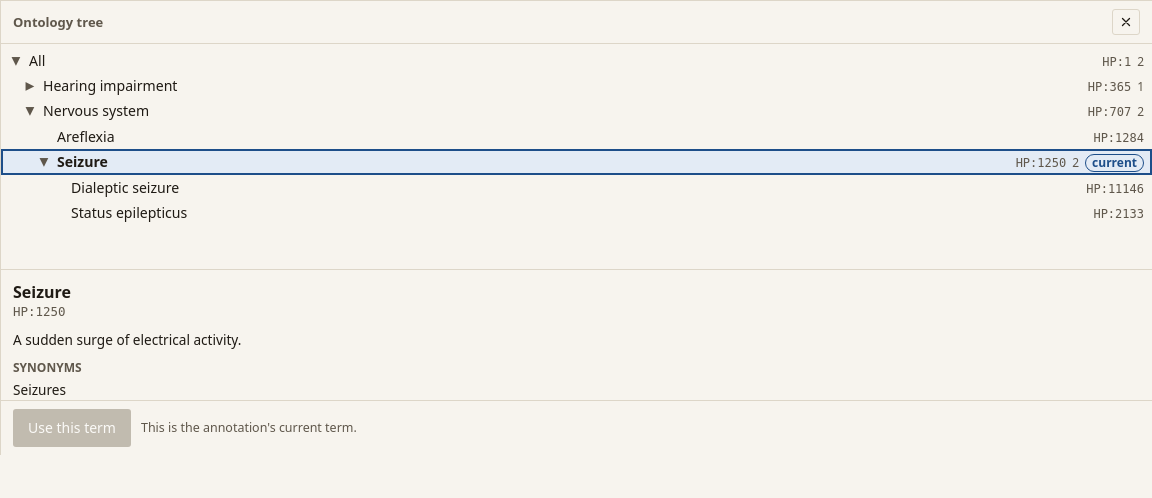
Test case: TreeBrowser: one walk › loads the children of a branch when it is opened, once
Click the text with class "tree-toggle" showing "▸" at (30, 84), box [26, 72, 34, 96]
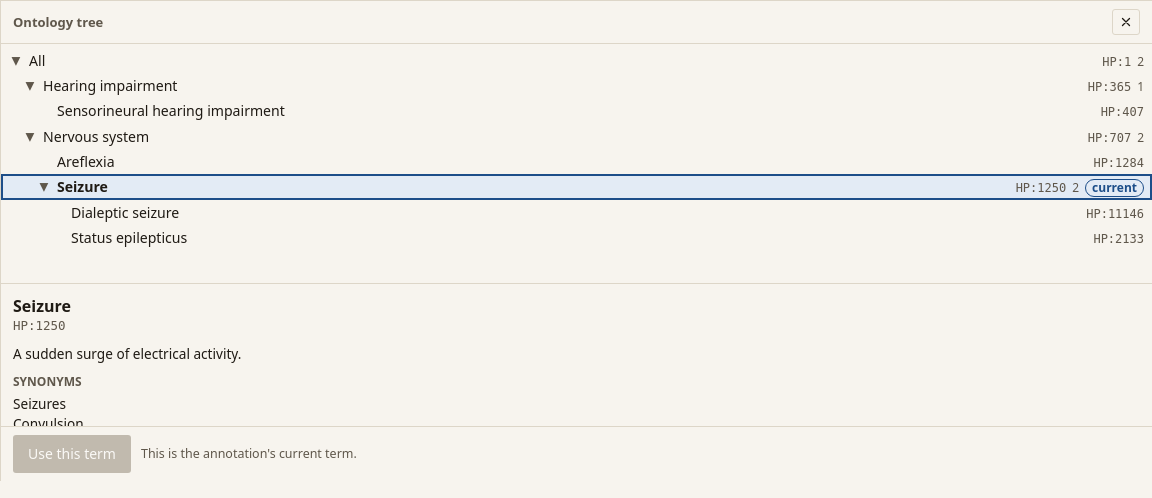
Expected: the list item "Hearing impairment" is expanded, [1, 73, 1151, 98]
Click the text with class "tree-toggle" in the row of "HP:365" at (30, 84), box [26, 72, 34, 96]
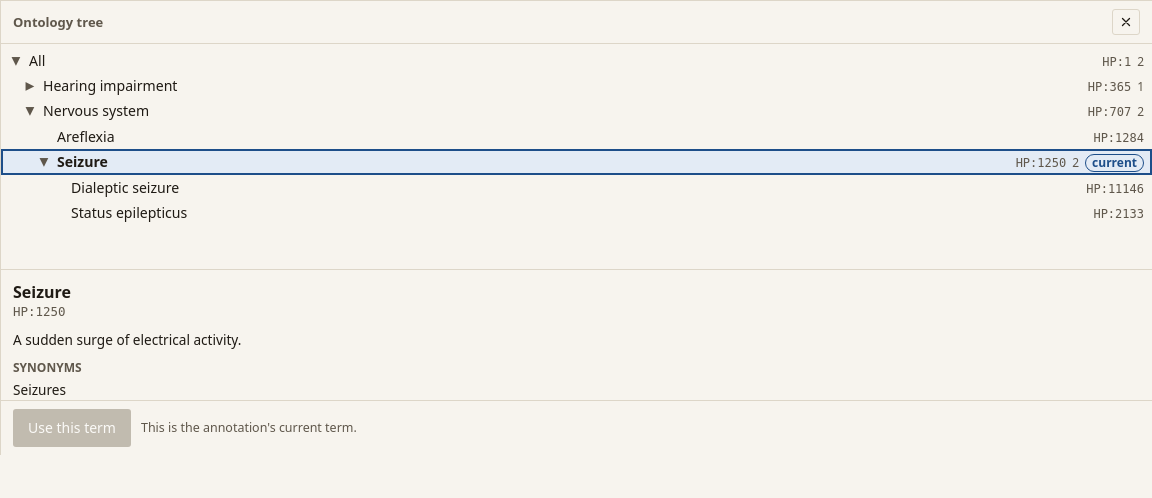
Expected: the text "Sensorineural hearing impairment" is gone
Click the text with class "tree-toggle" showing "▸" at (30, 84), box [26, 72, 34, 96]
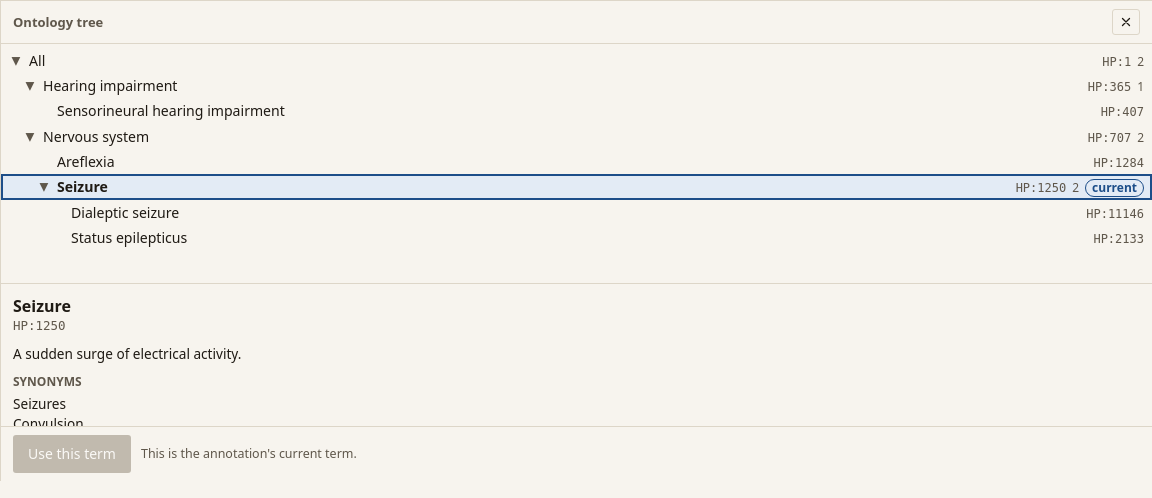
Expected: the text "Sensorineural hearing impairment" is shown, [57, 101, 285, 120]
